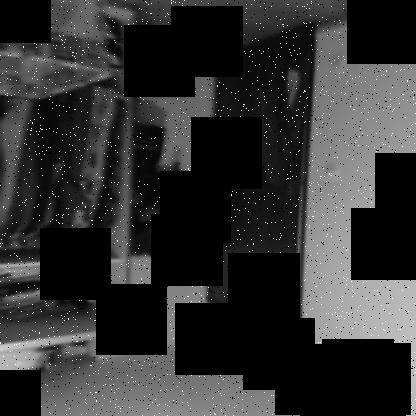Porte: (203, 20, 318, 336)
